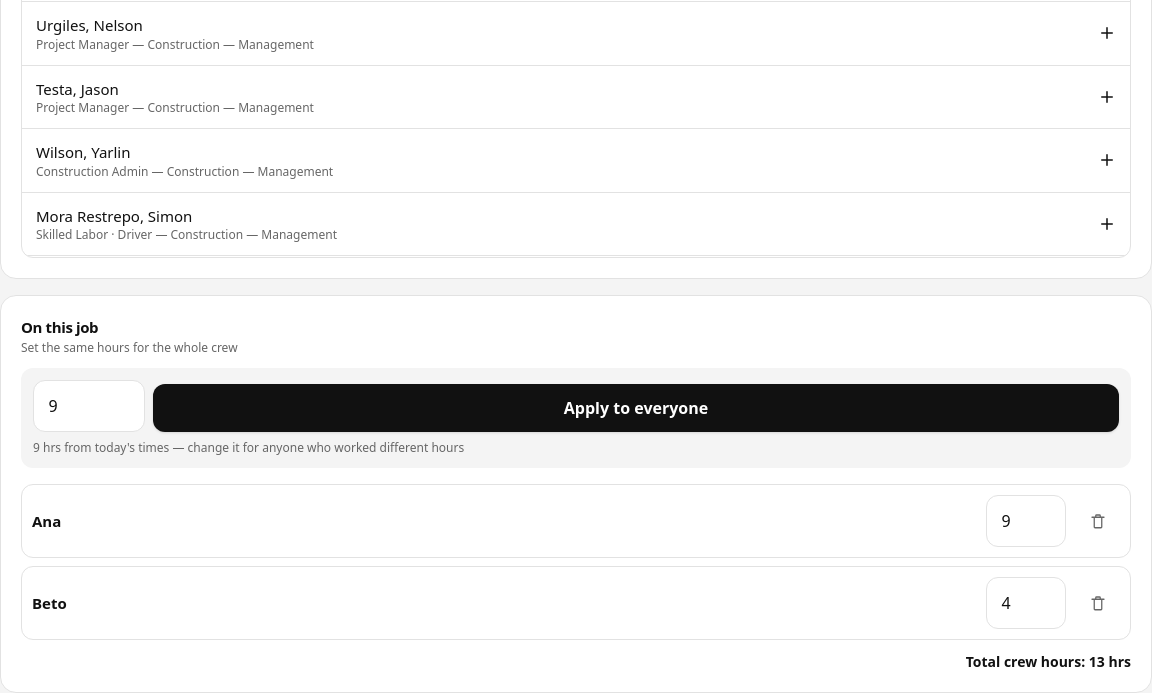
Test: the crew total › adds up what each person actually got
(page scrolled)
Check: the text "13 hrs" is shown, box [1089, 652, 1131, 671]
Replace the text in the number field named "Hours — Beto" with "9" at (1026, 603), box [986, 577, 1066, 629]
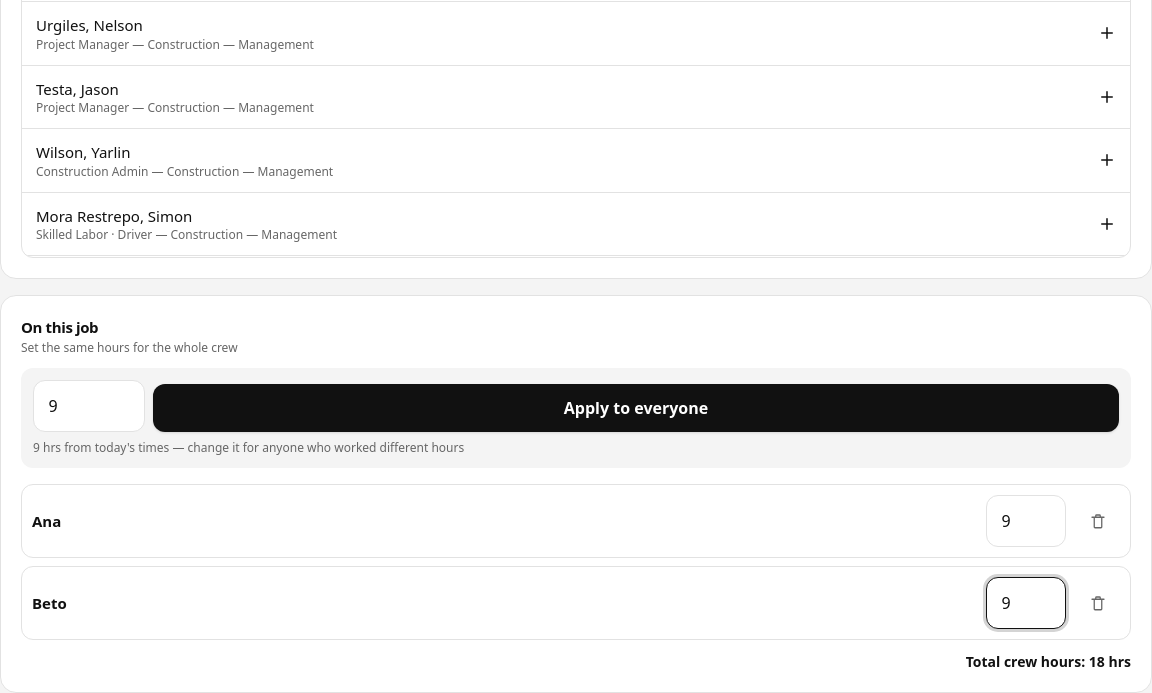
Check: the text "18 hrs" is shown, box [1089, 652, 1131, 671]
